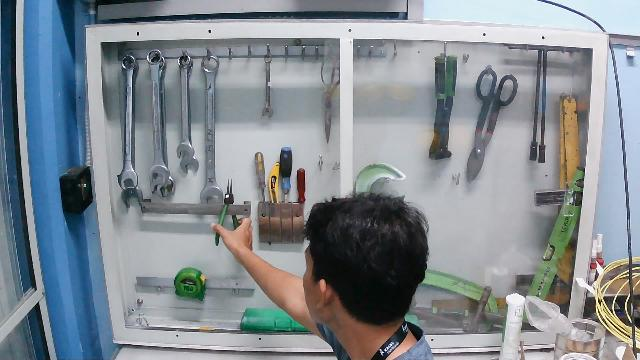tang_cucut_lancip_2: (212, 177, 255, 253)
